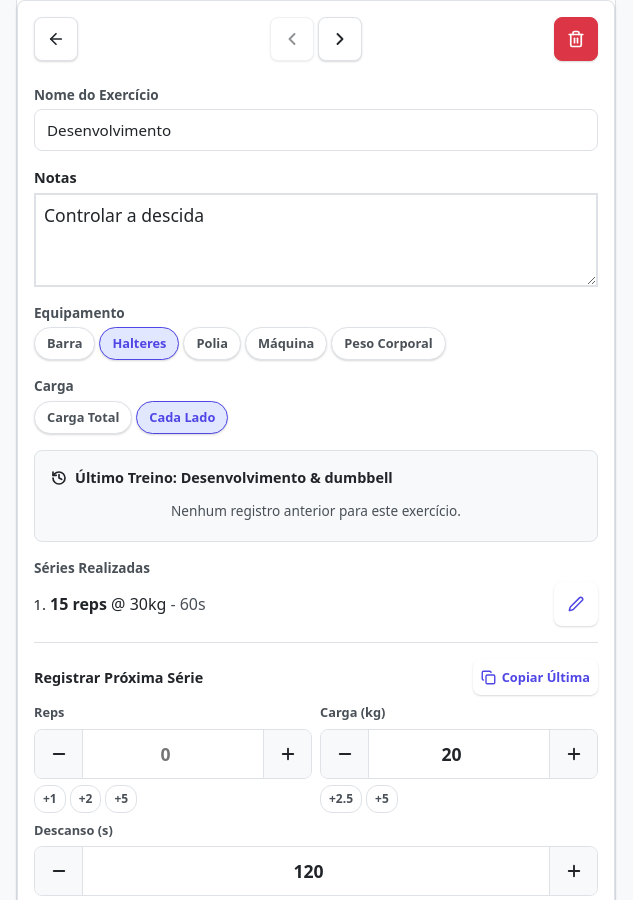
Test: ExerciseScreen — registro de séries › copia as repetições da última série para o formulário
In the number field with placeholder "0": point(173, 754) [83,730,263,778], type "3"
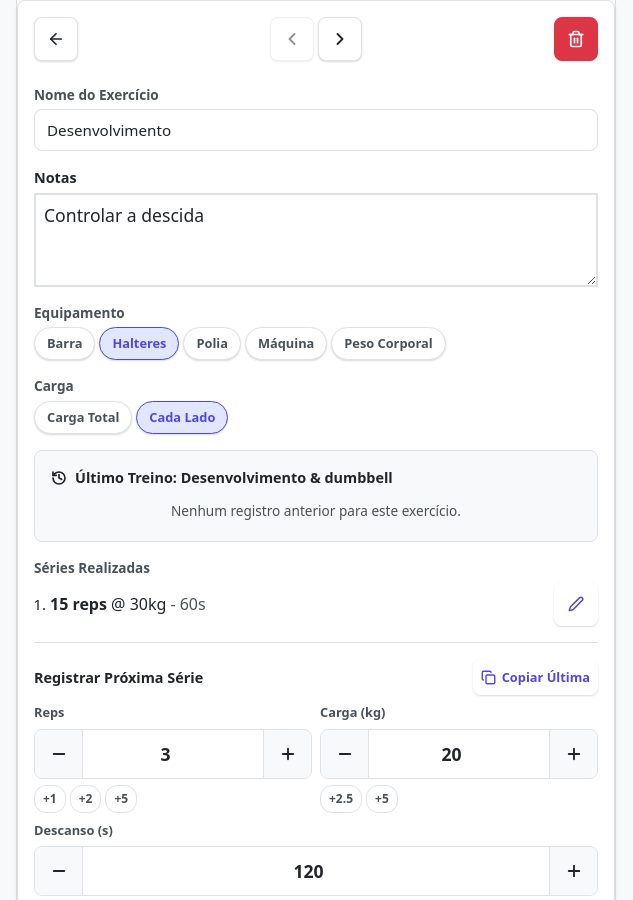
Click the button "Copiar Última": point(535, 677) [473,659,598,695]
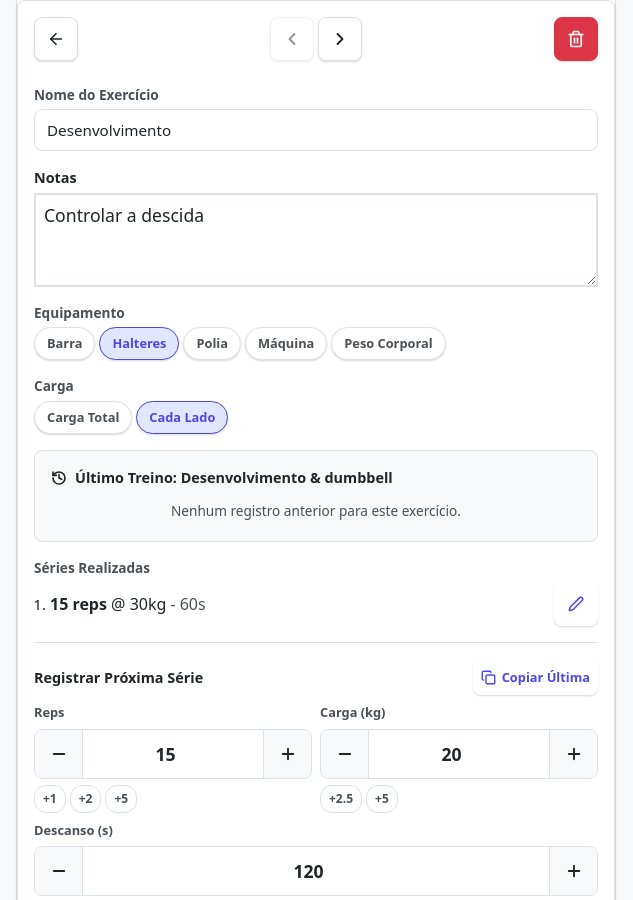
Check: the 1st number field holds "15", box [83,730,263,778]
